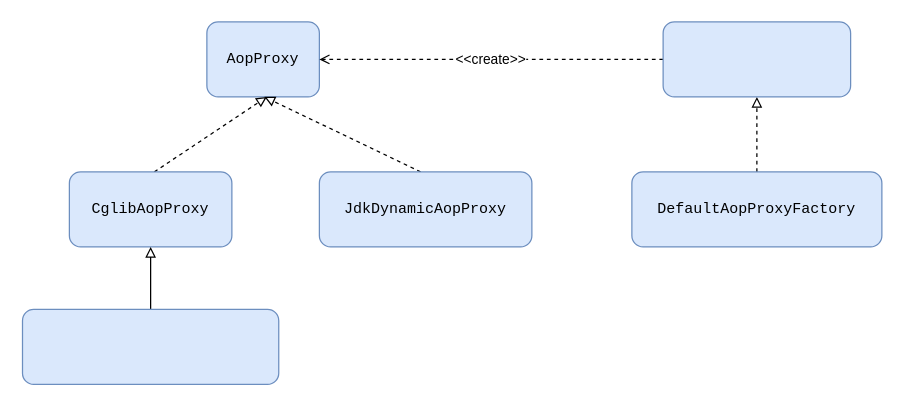
Image size: 904x406. Some labels were removed from this diagram. The box of each missing label's shape, as (x1, y1, x2, y2) in pixels:
AopProxyFactory: (662, 21, 851, 97)
ObjenesisCglibAopProxy: (21, 308, 279, 384)
